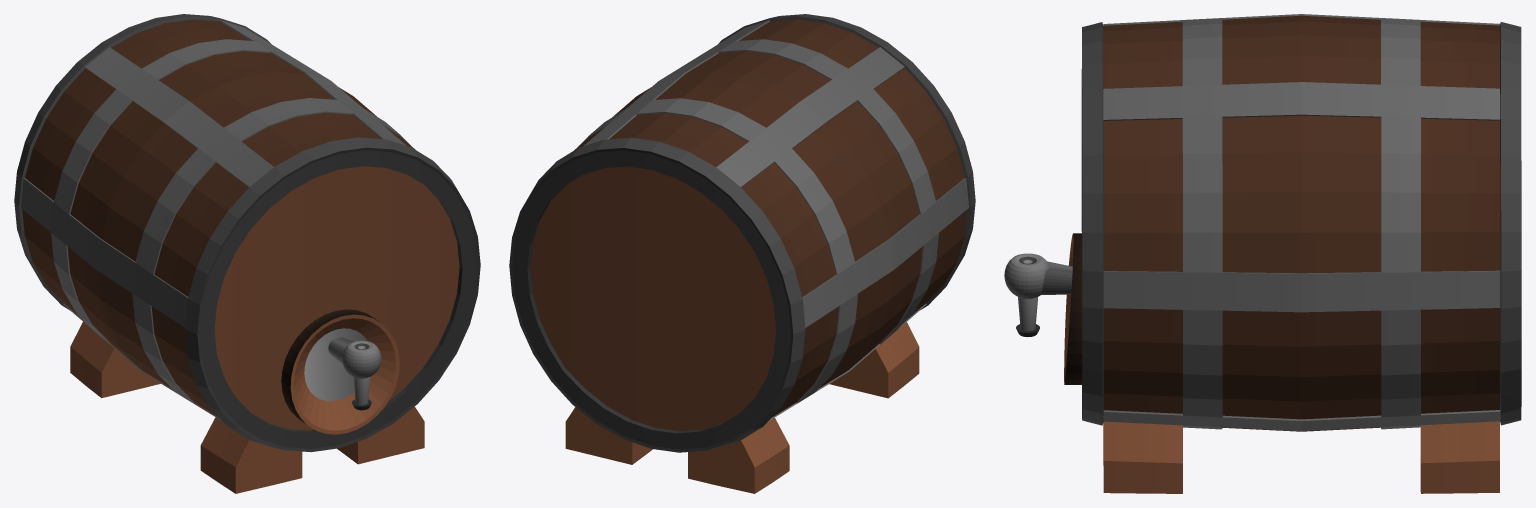
Rendered from Small Dark Cask.fbx.
3 views of the same model, side by side, from view 1: azimuth 30°, elevation 25°; view 2: azimuth 150°, elevation 25°; view 3: azimuth 270°, elevation 25° (orthographic). The views are drawn at different scales.
Parts seen in each view (by area): view 1: Small Dark Cask; view 2: Small Dark Cask; view 3: Small Dark Cask.
Boxes of the visible parts, left/top/right/bottom form: Small Dark Cask: left=14, top=14, right=480, bottom=493; Small Dark Cask: left=509, top=14, right=975, bottom=493; Small Dark Cask: left=1004, top=14, right=1521, bottom=493.
Bounding box in the file's own units: 167 × 195 × 158.
1 material, 1 textured.
